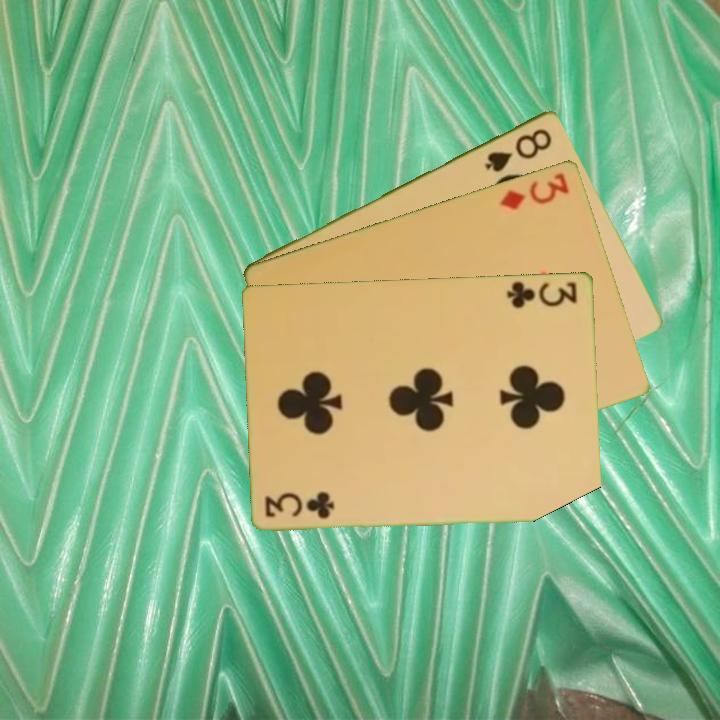3c: (503, 277, 580, 310), (262, 491, 338, 521)
3d: (496, 168, 572, 212)
8s: (481, 124, 555, 175)
